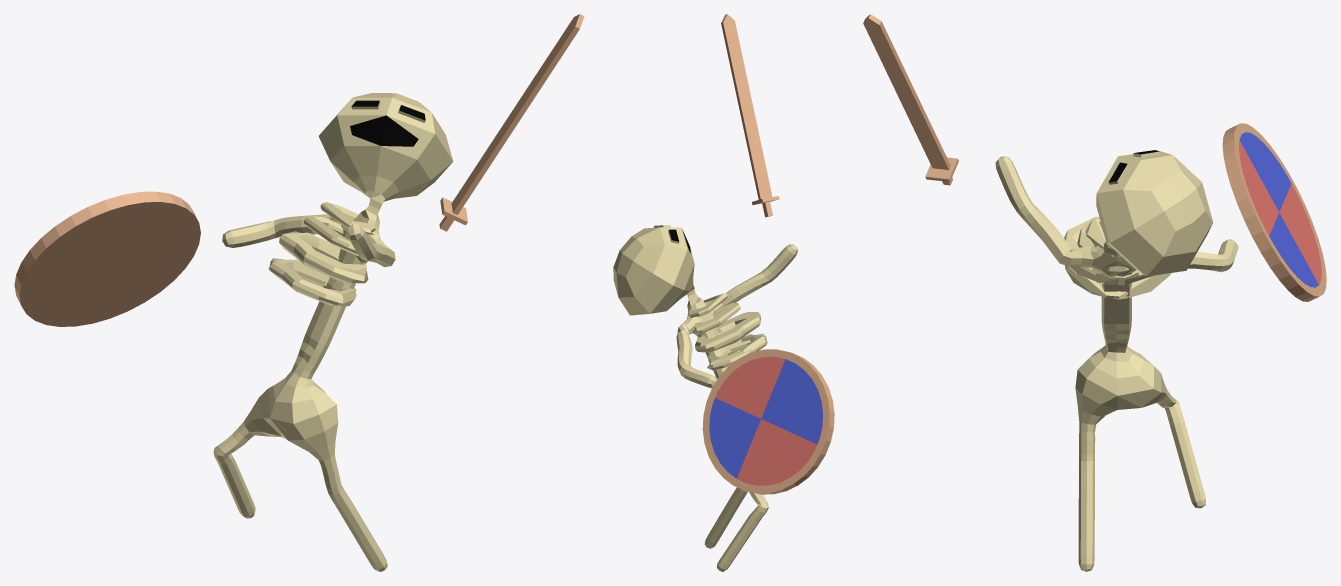
File: dusman_2_poz 1.fbx
The picture shows the model from 3 angles, left to right: view 1: azimuth 30°, elevation 25°; view 2: azimuth 150°, elevation 25°; view 3: azimuth 270°, elevation 25°; orthographic projection. The views are drawn at different scales.
Visible parts, largest first — view 1: Plane; view 2: Plane; view 3: Plane.
Boxes of the visible parts, x1,y1,x2,y2 form: Plane: [14, 14, 584, 571]; Plane: [613, 14, 834, 571]; Plane: [863, 14, 1326, 571].
Bounding box in the file's own units: 1127 × 1884 × 1321.
